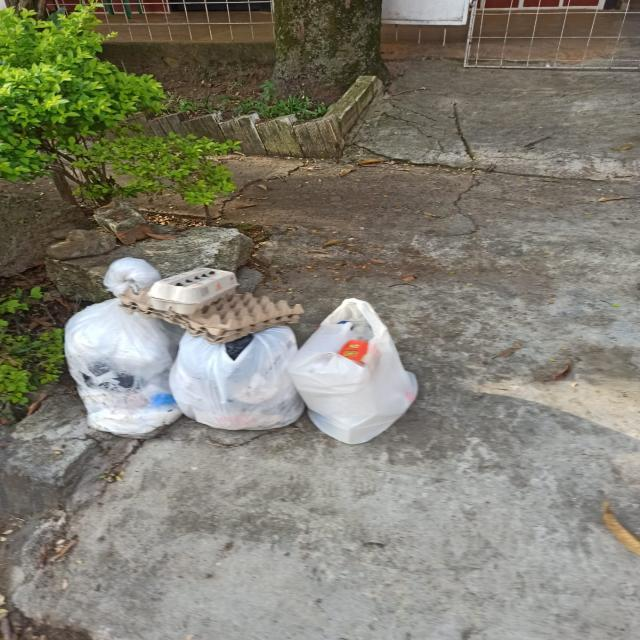Garbage_Bag: (54, 256, 192, 438), (290, 292, 434, 456), (172, 318, 312, 432)
